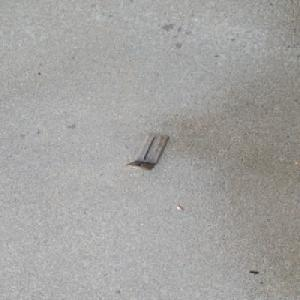MetalPart: (124, 132, 169, 170)
